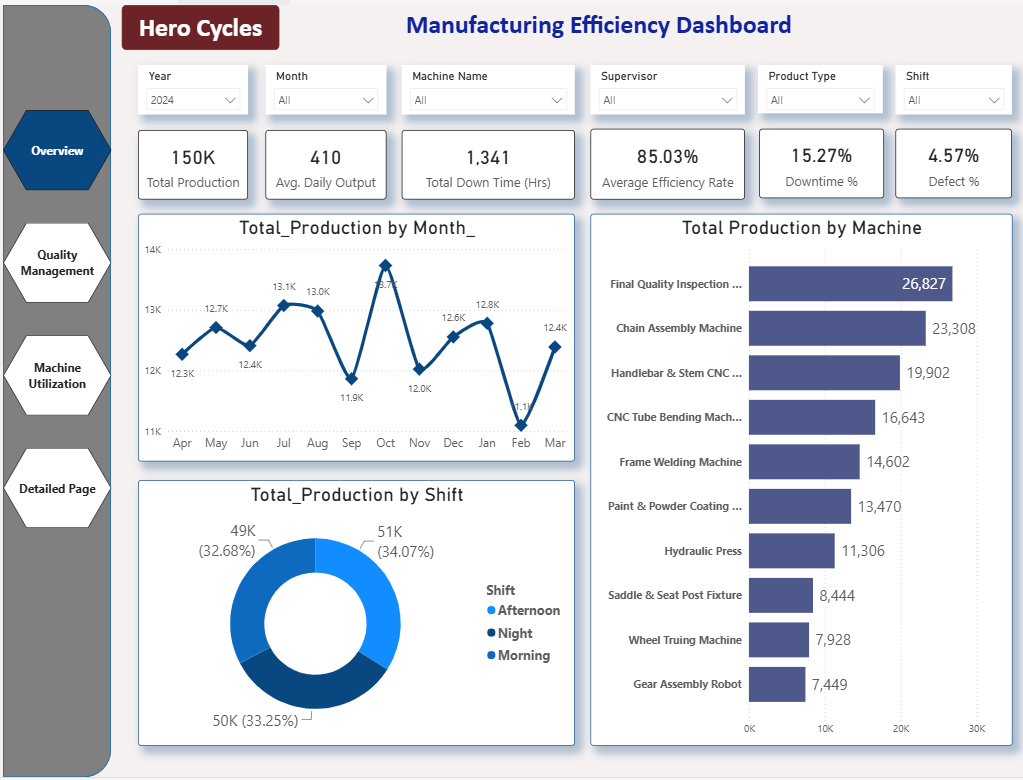

Layout of this report page (visuals, bound fields, positions):
{"tool":"powerbi","page":{"name":"Overview","canvas":[1280,960],"ordinal":0},"visuals":[{"type":"slicer","fields":{"Values":["Calender.Year"]},"box":[167.9,75,137,62],"z":0},{"type":"slicer","fields":{"Values":["Calender.Month"]},"box":[326.1,75,150,62],"z":1000},{"type":"slicer","fields":{"Values":["Machines.Machine Name"]},"box":[495.7,75,215.2,62],"z":2000},{"type":"slicer","fields":{"Values":["Operator.Name"]},"box":[730.4,75,192.4,62],"z":3000},{"type":"slicer","fields":{"Values":["Products.Category"]},"box":[939.1,75,154.9,60.3],"z":4000},{"type":"slicer","fields":{"Values":["Manufacturing Data.Shift"]},"box":[1110.3,75,145.1,62],"z":5000},{"type":"card","fields":{"Values":["Measures_All.Total_Production"]},"box":[167.9,154.9,137,86.4],"z":6000},{"type":"card","fields":{"Values":["Measures_All.Avg. Daily Output"]},"box":[325.7,155.4,150,86.5],"z":7000},{"type":"card","fields":{"Values":["Measures_All.Total_Down_Time (Hrs)"]},"box":[495.7,154.9,215.2,86.4],"z":8000},{"type":"card","fields":{"Values":["Measures_All.Downtime %"]},"box":[940.8,153.3,154.9,86.4],"z":9000},{"type":"shape","box":[0,0,134.3,960.3],"z":10000},{"type":"pageNavigator","box":[0,130,135,523.3],"z":11000},{"type":"textbox","box":[303.3,0,875.5,50.5],"z":12000},{"type":"card","fields":{"Values":["Measures_All.Average Efficiency Rate"]},"box":[730.4,153.3,192.4,88],"z":13000},{"type":"lineChart","fields":{"Category":["Calender.Month_"],"Y":["Measures_All.Total_Production"]},"box":[168.3,259,543.3,308.3],"z":14000},{"type":"donutChart","fields":{"Y":["Measures_All.Total_Production"],"Category":["Shifts.Shift"]},"box":[168.3,590.6,543.3,330],"z":15000},{"type":"clusteredBarChart","title":"Total Production by Machine","fields":{"Category":["Machines.Machine Name"],"Y":["Measures_All.Total_Production"]},"box":[730.4,259.2,525,662],"z":16000},{"type":"textbox","box":[148.4,0,195.7,56],"z":17000},{"type":"card","fields":{"Values":["Measures_All.Defect %"]},"box":[1110.3,153.3,145.1,86.4],"z":18000}]}

Visuals, with their boxes in screenshot pixels (x1, y1, x2, y2), scaled from the page's 1280x960 canvas onto the 1023x780 screenshot:
slicer - Calender.Year: x1=134, y1=61, x2=244, y2=111
slicer - Calender.Month: x1=261, y1=61, x2=381, y2=111
slicer - Machines.Machine Name: x1=396, y1=61, x2=568, y2=111
slicer - Operator.Name: x1=584, y1=61, x2=738, y2=111
slicer - Products.Category: x1=751, y1=61, x2=874, y2=110
slicer - Manufacturing Data.Shift: x1=887, y1=61, x2=1003, y2=111
card - Measures_All.Total_Production: x1=134, y1=126, x2=244, y2=196
card - Measures_All.Avg. Daily Output: x1=260, y1=126, x2=380, y2=197
card - Measures_All.Total_Down_Time (Hrs): x1=396, y1=126, x2=568, y2=196
card - Measures_All.Downtime %: x1=752, y1=125, x2=876, y2=195
shape: x1=0, y1=0, x2=107, y2=779
pageNavigator: x1=0, y1=106, x2=108, y2=531
textbox: x1=242, y1=0, x2=942, y2=41
card - Measures_All.Average Efficiency Rate: x1=584, y1=125, x2=738, y2=196
lineChart - Calender.Month_ x Measures_All.Total_Production: x1=135, y1=210, x2=569, y2=461
donutChart - Measures_All.Total_Production x Shifts.Shift: x1=135, y1=480, x2=569, y2=748
"Total Production by Machine" clusteredBarChart: x1=584, y1=211, x2=1003, y2=748
textbox: x1=119, y1=0, x2=275, y2=46
card - Measures_All.Defect %: x1=887, y1=125, x2=1003, y2=195
